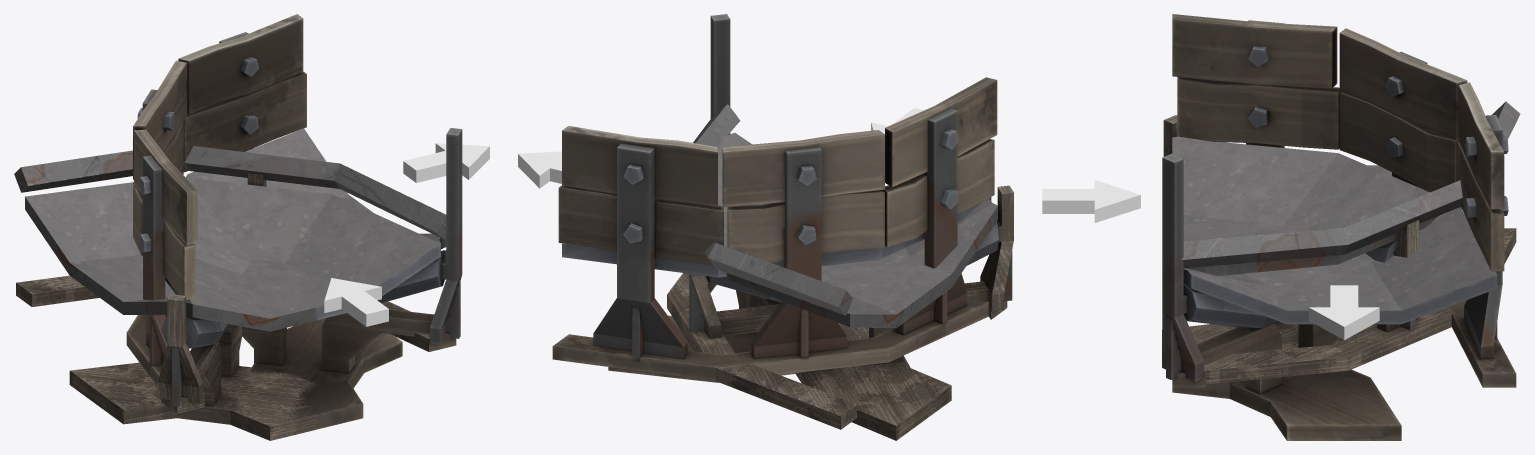
File: WallConveyor_90_Mirror.glb
3 views of the same model, side by side, from view 1: azimuth 30°, elevation 25°; view 2: azimuth 150°, elevation 25°; view 3: azimuth 270°, elevation 25° (orthographic). The views are drawn at different scales.
Parts seen in each view (by area): view 1: WallConveyor_90_Mirror, NewRotation, ghostarrow, ghostarrow (1); view 2: NewRotation, WallConveyor_90_Mirror, ghostarrow (1); view 3: NewRotation, WallConveyor_90_Mirror, ghostarrow, ghostarrow (1).
Boxes of the visible parts, x1,y1,x2,y2 form: WallConveyor_90_Mirror: (14, 146, 447, 440); NewRotation: (126, 14, 462, 429); ghostarrow: (324, 278, 388, 326); ghostarrow (1): (403, 143, 489, 182); NewRotation: (552, 14, 997, 382); WallConveyor_90_Mirror: (667, 104, 1013, 440); ghostarrow (1): (518, 151, 561, 188); NewRotation: (1162, 14, 1516, 440); WallConveyor_90_Mirror: (1163, 101, 1520, 384); ghostarrow: (1042, 180, 1140, 222); ghostarrow (1): (1309, 285, 1379, 340).
Size of the model in its own units: 1.44 by 0.9226 by 1.39.
Materials: 4 (3 with a texture image).
